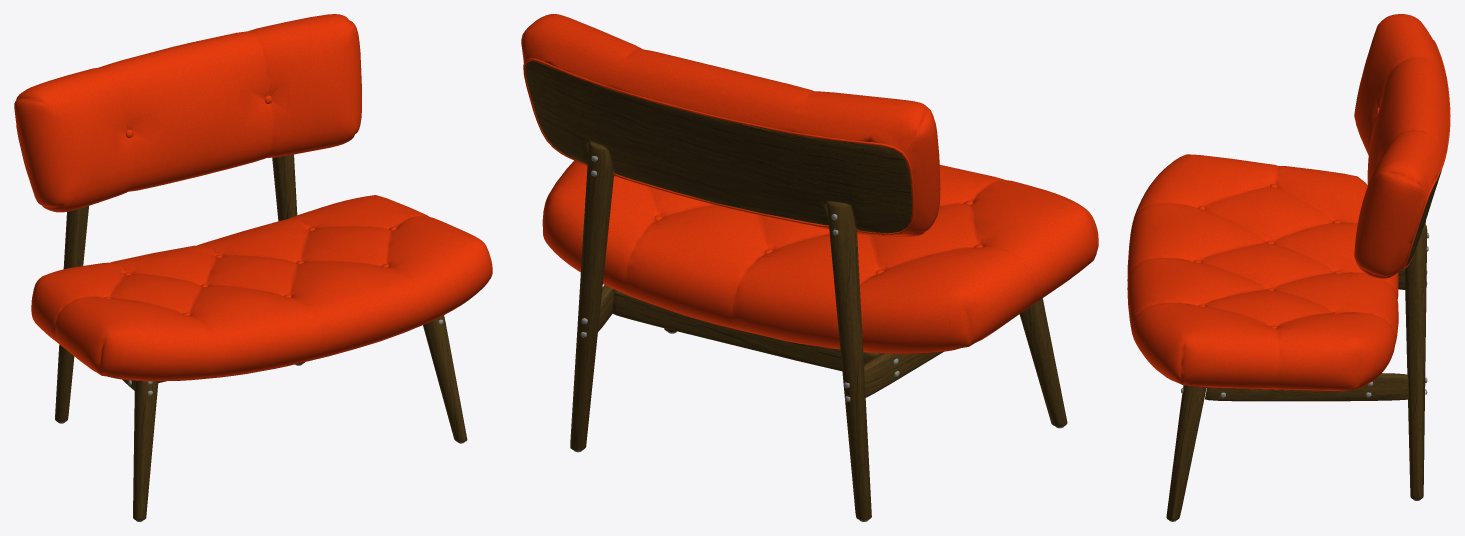
The model's file is SheenChair.glb.
The picture shows the model from 3 angles, left to right: view 1: azimuth 30°, elevation 25°; view 2: azimuth 150°, elevation 25°; view 3: azimuth 270°, elevation 25°; orthographic projection. The views are drawn at different scales.
Parts seen in each view (by area): view 1: SheenChair_fabric, SheenChair_wood; view 2: SheenChair_fabric, SheenChair_wood; view 3: SheenChair_fabric, SheenChair_wood.
Part boxes in pixels (x1,y1,x2,y2): SheenChair_fabric: (14, 14, 492, 381); SheenChair_wood: (55, 154, 467, 520); SheenChair_fabric: (521, 14, 1098, 354); SheenChair_wood: (525, 61, 1067, 520); SheenChair_fabric: (1127, 14, 1450, 391); SheenChair_wood: (1166, 170, 1441, 520).
Bounding box in the file's own units: 0.8266 × 0.6861 × 0.5702.
4 materials, 3 textured.
